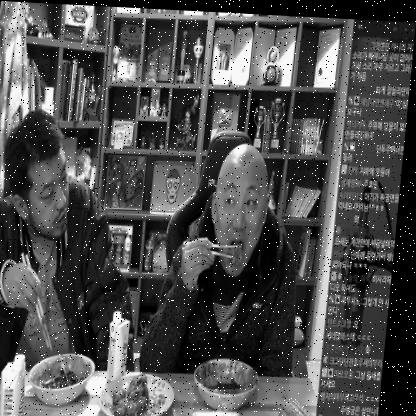streamer: (0, 108, 158, 380), (145, 136, 315, 375)
